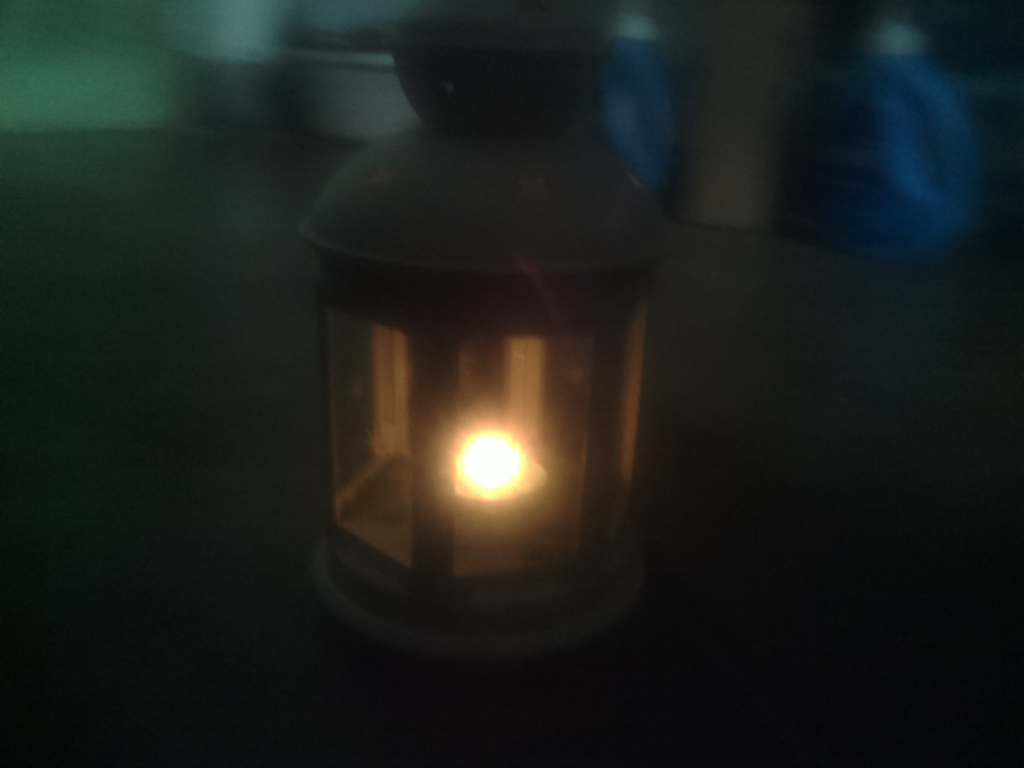fire: (437, 421, 568, 547)
